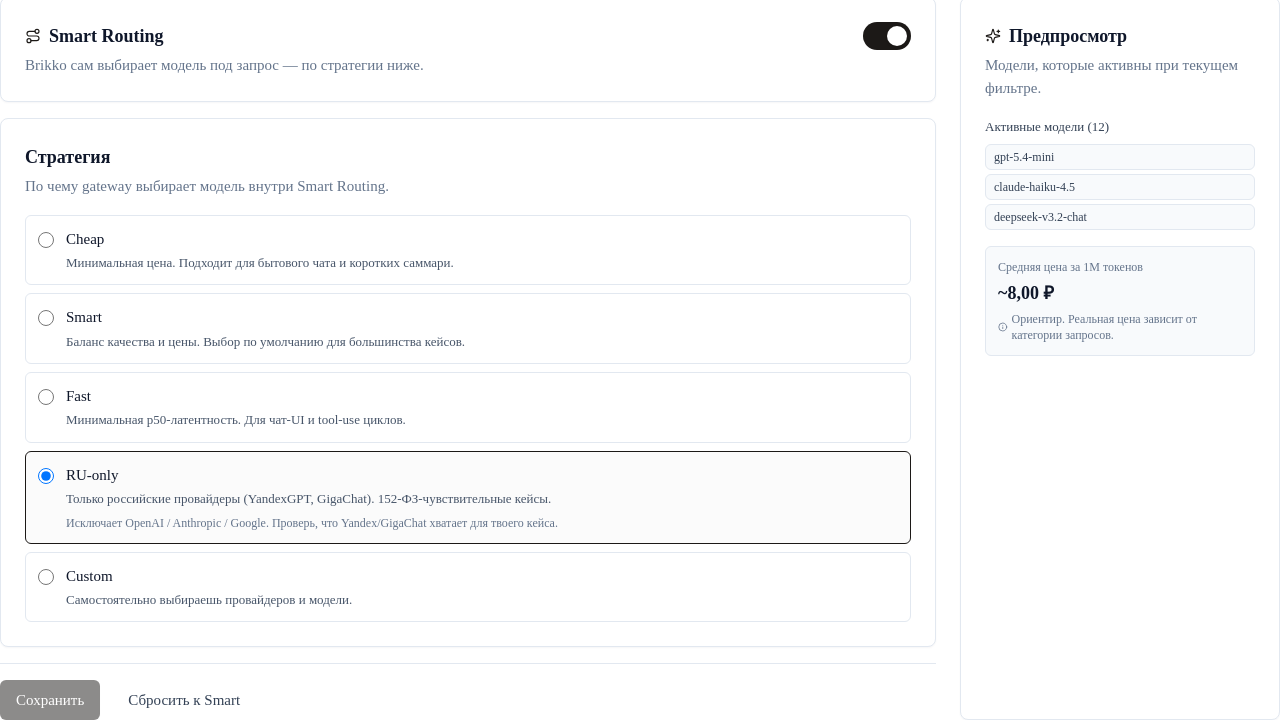
Scenario: <RoutingPage> › Reset to Smart возвращает дефолты
The image size is (1280, 720).
Click the button with test id "routing-reset-button": coordinates (184, 700) [112,680,256,719]
(page scrolled)
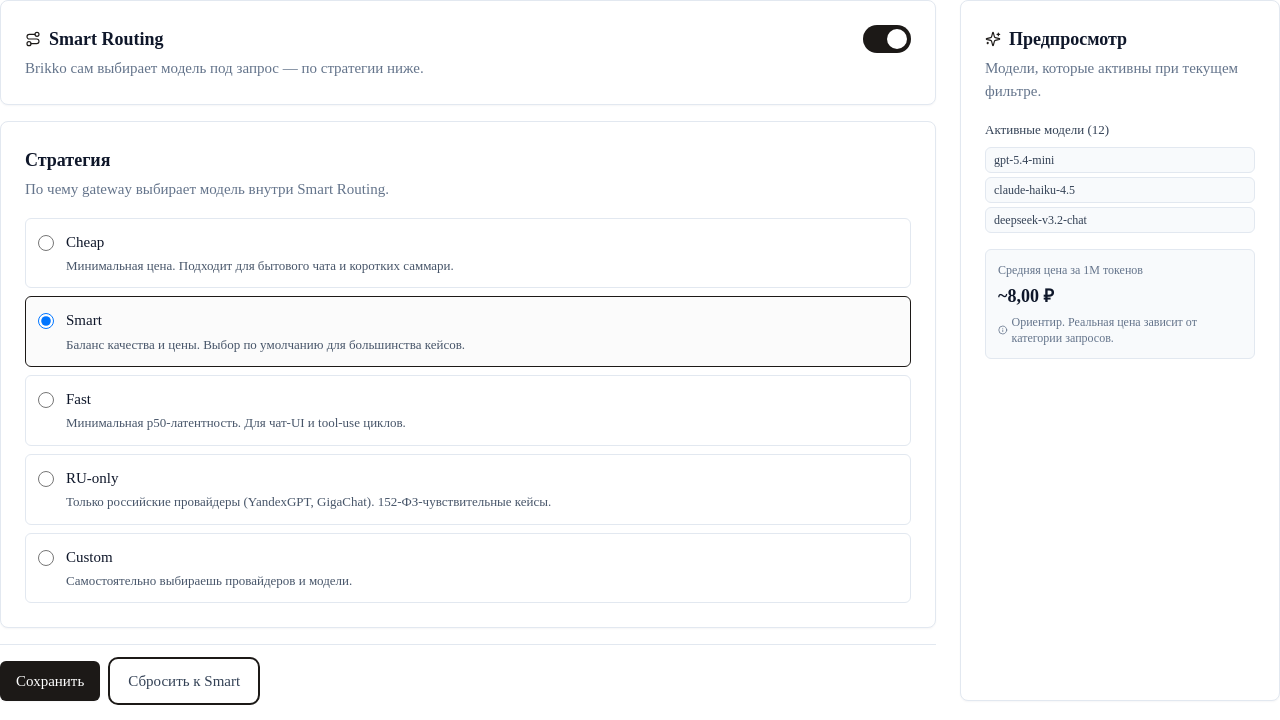
Expected: the 2nd radio button is checked, [38,313,54,329]
